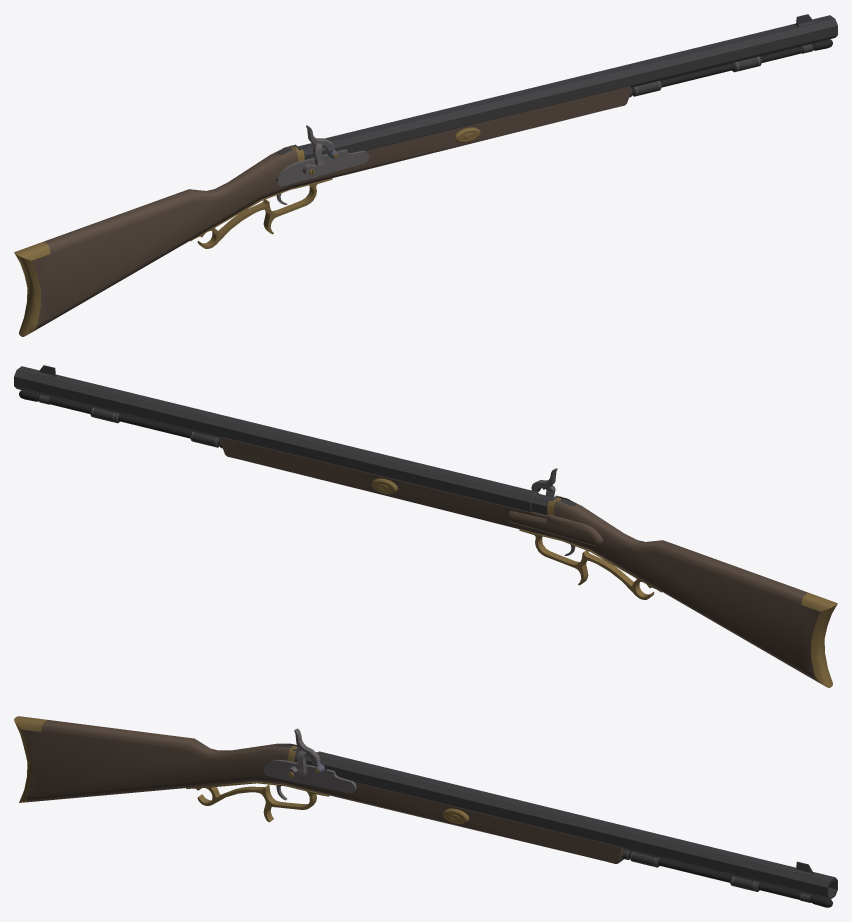
Rendered from Musket.fbx.
The picture shows the model from 3 angles, top to bottom: view 1: azimuth 30°, elevation 25°; view 2: azimuth 150°, elevation 25°; view 3: azimuth 330°, elevation 25°; orthographic projection.
Visible parts, largest first — view 1: Musket; view 2: Musket; view 3: Musket.
Part boxes in pixels (x1,y1,x2,y2): Musket: (14,14,837,336); Musket: (14,365,837,687); Musket: (14,716,837,907).
Size of the model in its own units: 572 by 97.09 by 21.71.
